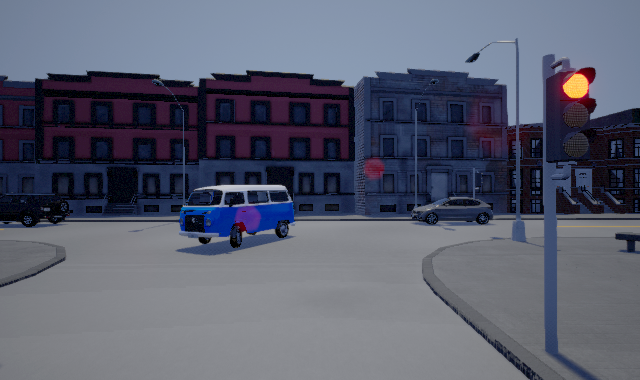traffic_light: (546, 57, 597, 180)
vehicle: (179, 185, 296, 248), (1, 192, 70, 227), (411, 197, 493, 225)
